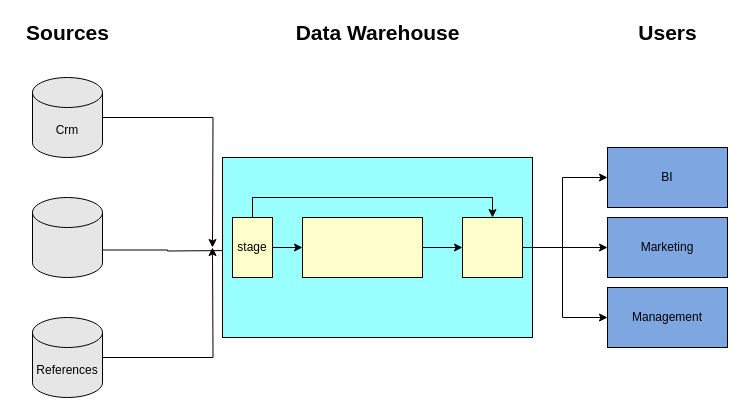
Some shapes in this 745 by 415 pixel diagram are drawn without their labels. Here are the shapes that lost their labels. From the top down, the box of each, then its label:
(32, 196, 102, 278): Outer systems
(302, 216, 422, 278): core
(462, 216, 522, 278): marts
